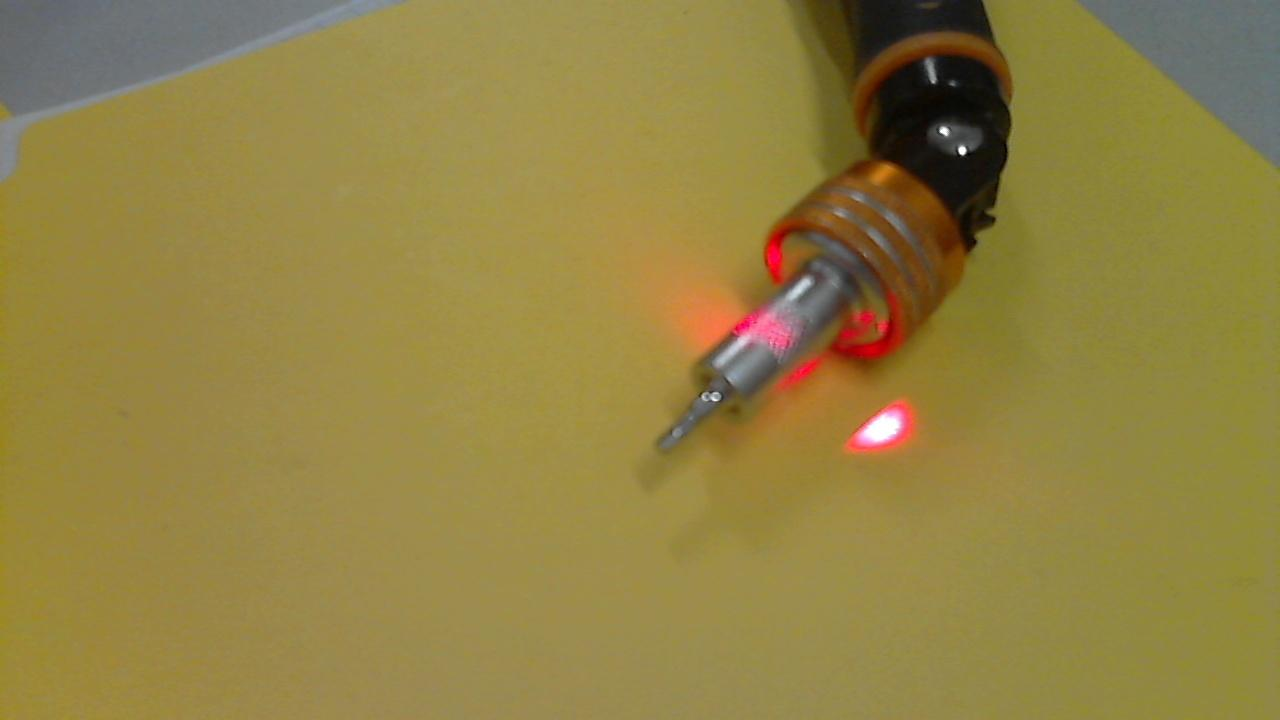Object precision screwdriver - Material Metal - Pdfname NoEr35VbQ7sR: (714, 302, 823, 393)
